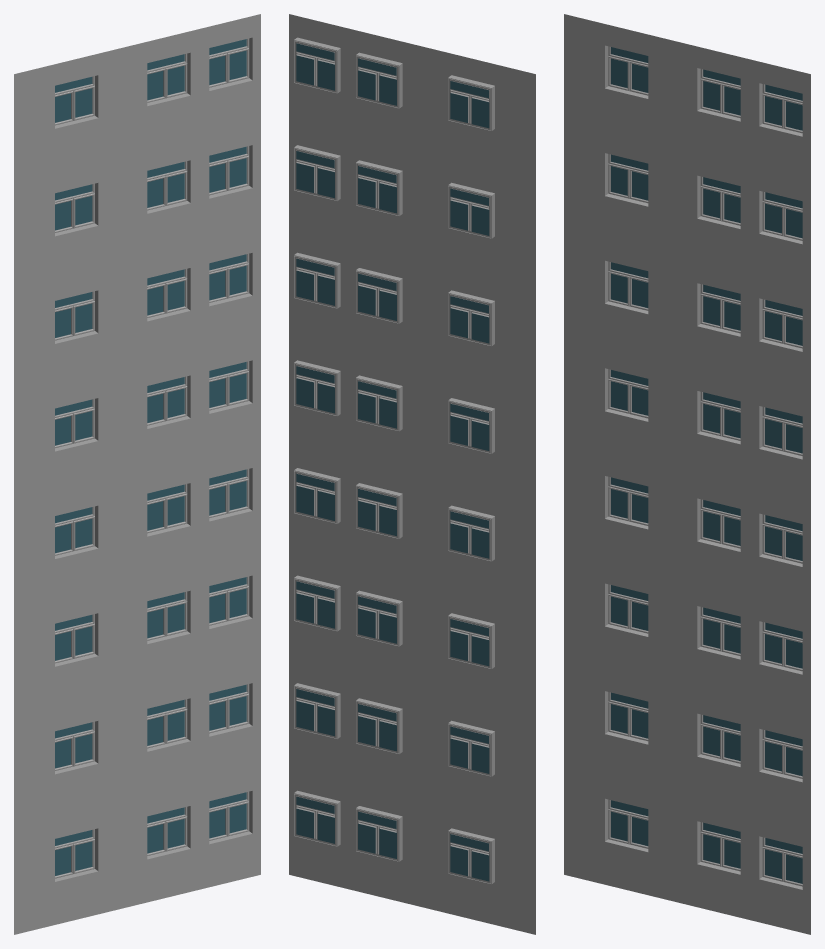
Rendered from Ext_Wall_ApartmentsDouble_2x8_001.fbx.
The picture shows the model from 3 angles, left to right: view 1: azimuth 30°, elevation 25°; view 2: azimuth 150°, elevation 25°; view 3: azimuth 330°, elevation 25°; orthographic projection.
Parts seen in each view (by area): view 1: m_Wall_Straight_ApartmentsDouble_2x8_01; view 2: m_Wall_Straight_ApartmentsDouble_2x8_01; view 3: m_Wall_Straight_ApartmentsDouble_2x8_01.
Part boxes in pixels (<box>): m_Wall_Straight_ApartmentsDouble_2x8_01: <box>14,14,260,934</box>; m_Wall_Straight_ApartmentsDouble_2x8_01: <box>289,14,535,934</box>; m_Wall_Straight_ApartmentsDouble_2x8_01: <box>564,14,810,934</box>.
Size of the model in its own units: 600 by 2000 by 17.56.
